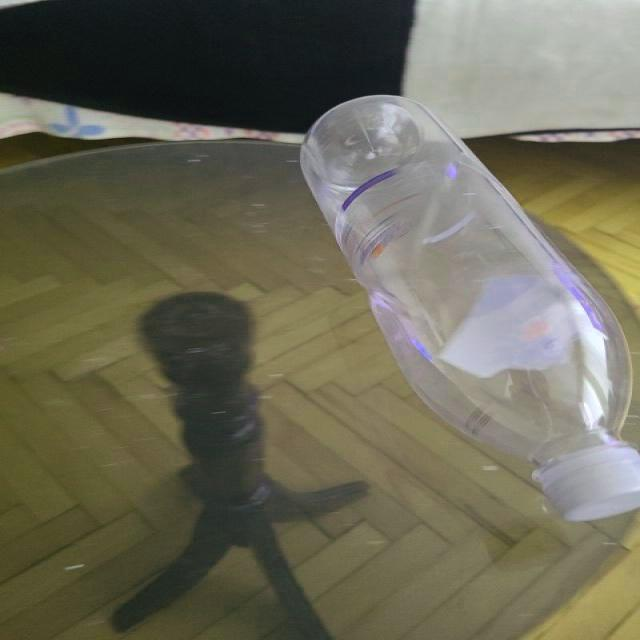bottle: (298, 94, 640, 520)
